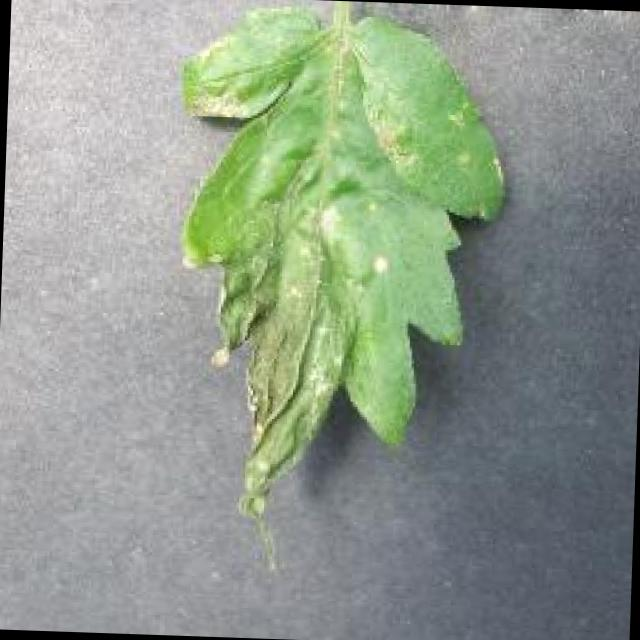Tomato_Late_Blight: (162, 59, 402, 532)
